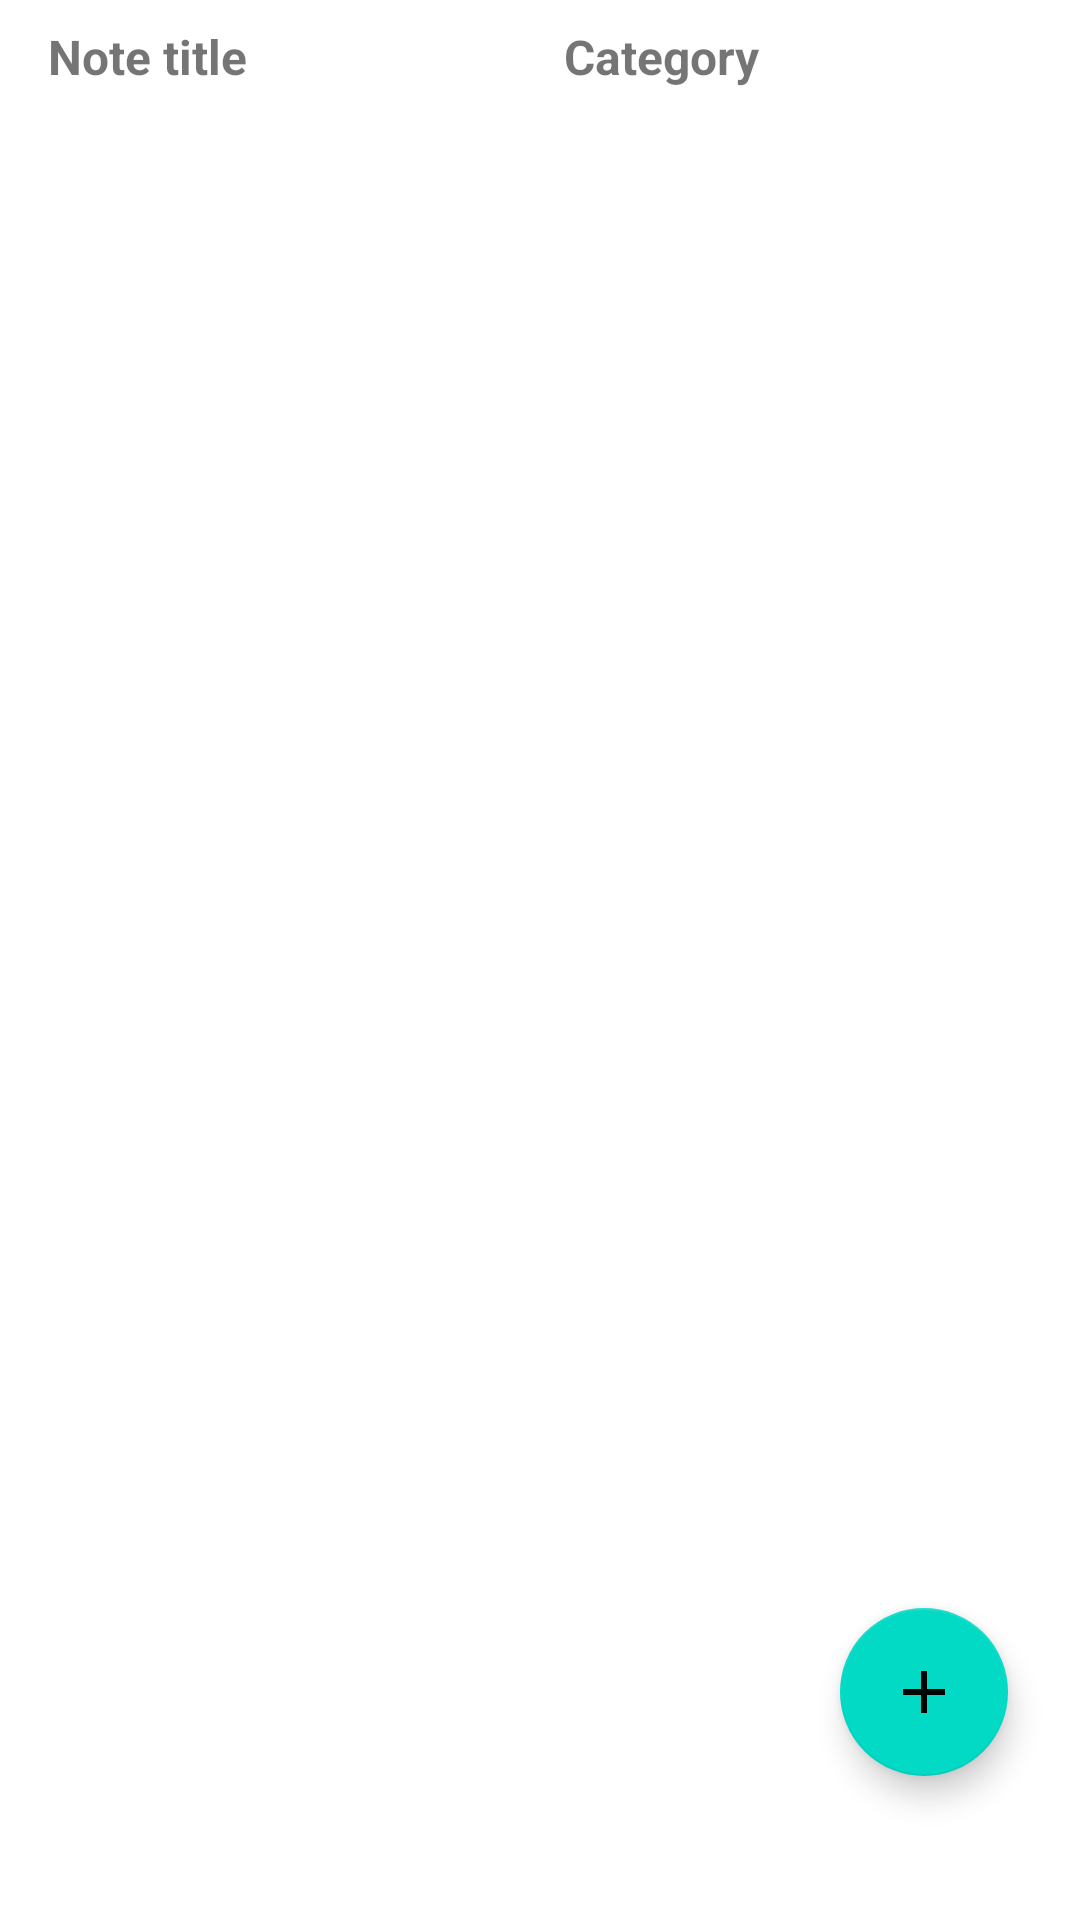

Where to tap for icons on this 1080w x 1920h app screen, as point (x, y):
Button to Add new note: point (924, 1692)
